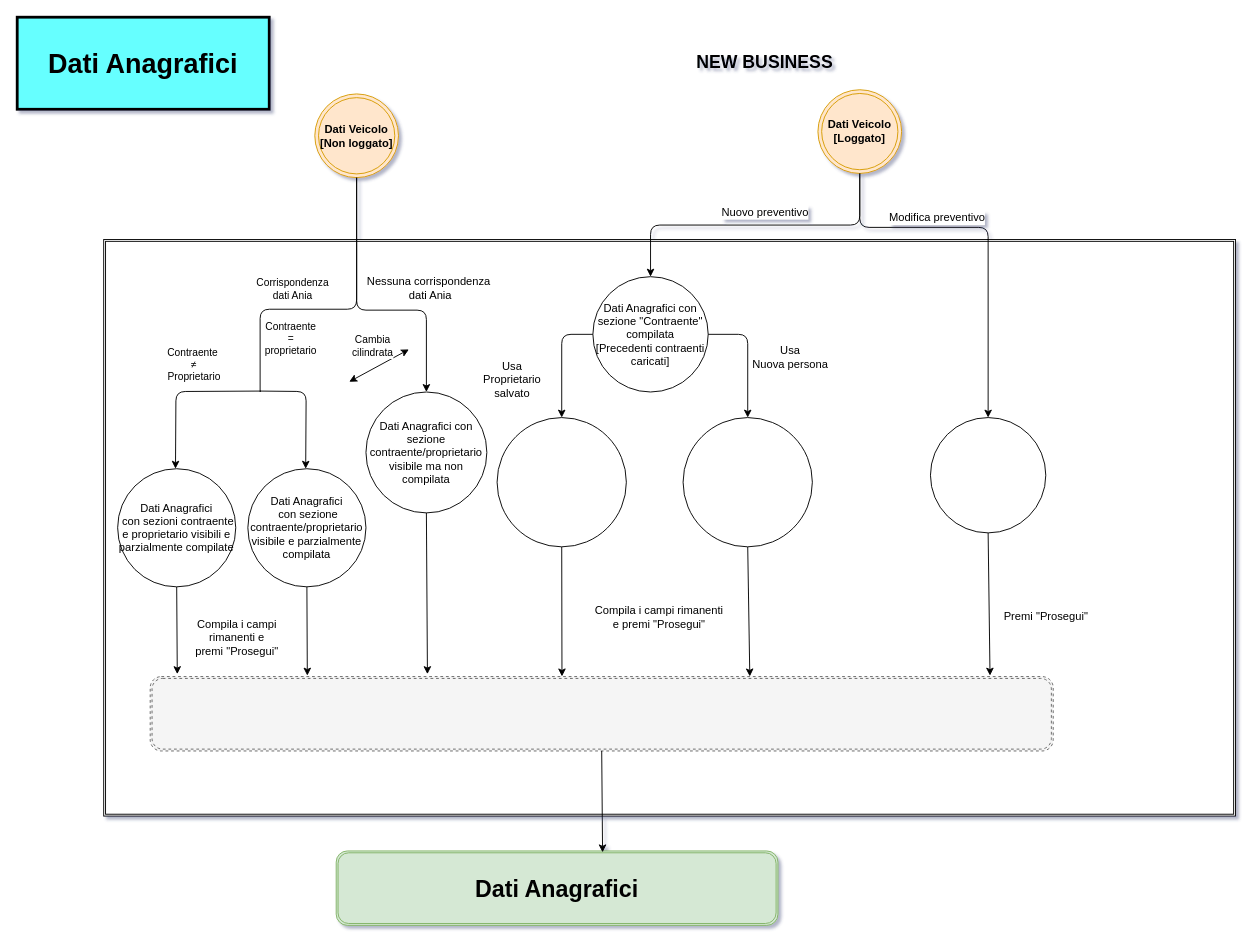
Image size: 1257x948. Some labels were removed from this diagram. The shapes that lost their labels are listed below. From the top down, each one's centre as x and y in pixels, then its label:
At point (561, 482): "Dati Anagrafici contraente/proprietario parzialmente compilati".
At point (747, 482): "Dati Anagrafici contraente compilata, Sezione Proprietario da compilare".
At point (988, 475): "Dati Anagrafici totalmente compilata e bloccata".
At point (601, 713): "Validazione".
